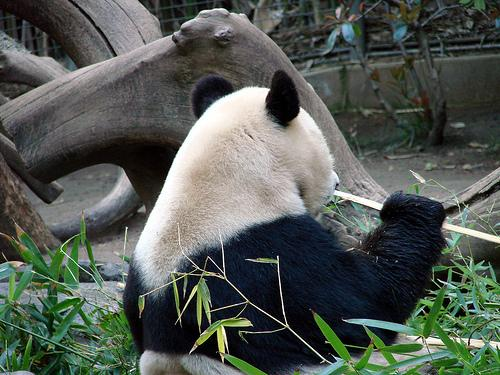panda: (124, 70, 444, 374)
